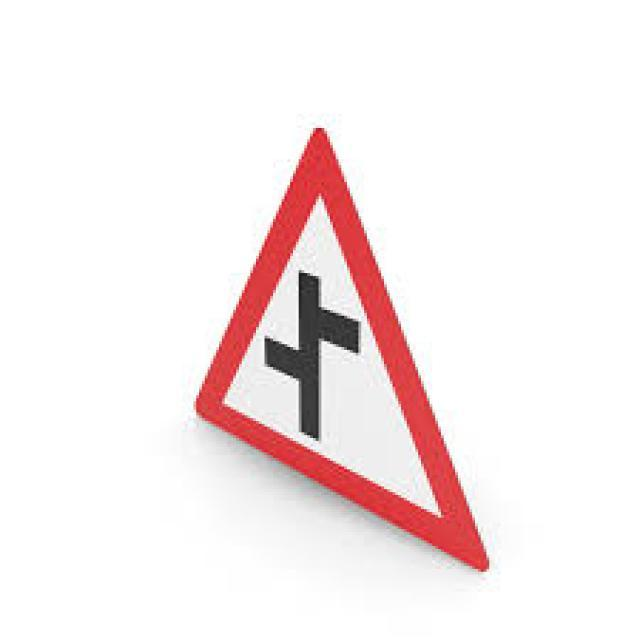staggered intersection: (188, 119, 503, 587)
